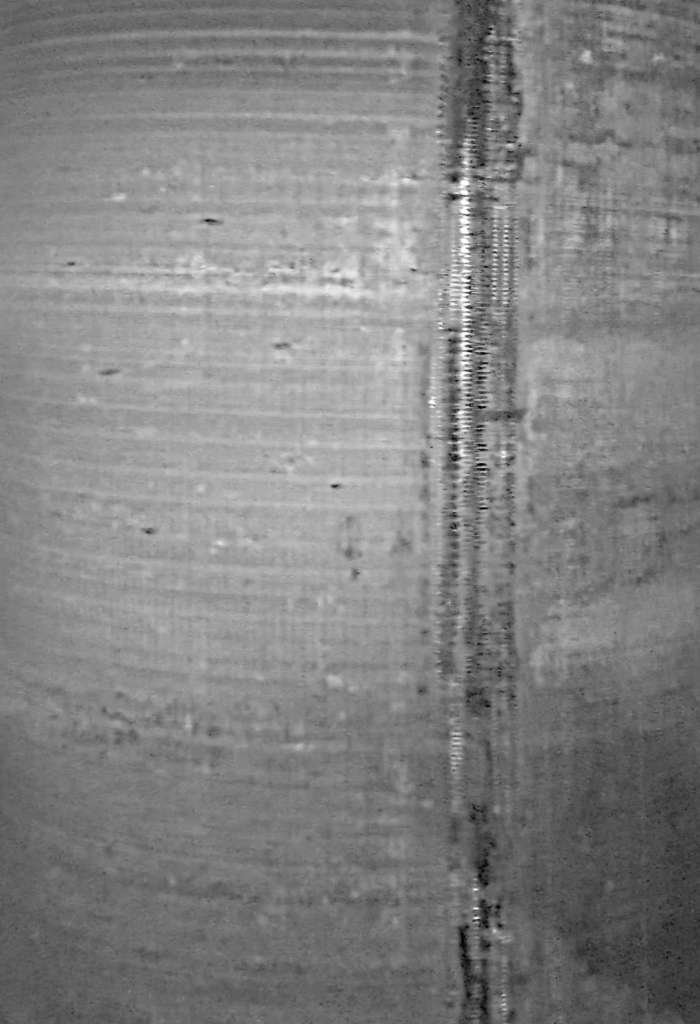splice: (425, 1, 539, 1024)
